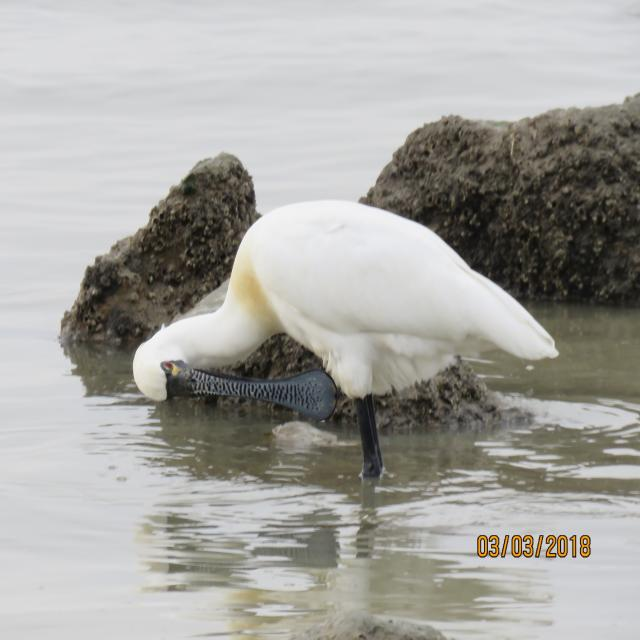Black-faced spoonbill: (134, 201, 557, 476)
